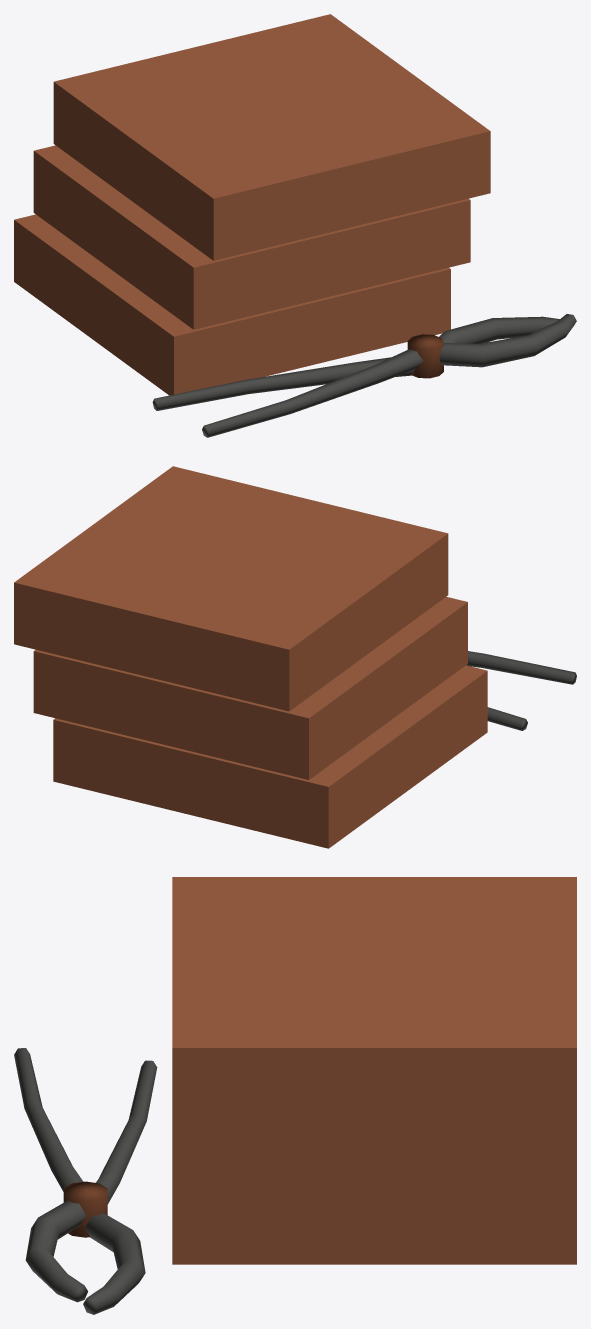
Rendered from lake-kleshchi-shallows-1.glb.
3 renders of one model, top to bottom at view 1: azimuth 30°, elevation 25°; view 2: azimuth 150°, elevation 25°; view 3: azimuth 270°, elevation 25°, orthographic. The views are drawn at different scales.
Visible parts, largest first — view 1: lake-kleshchi-shallows-1; view 2: lake-kleshchi-shallows-1; view 3: lake-kleshchi-shallows-1.
Boxes of the visible parts, bbox=[...] form: lake-kleshchi-shallows-1: bbox=[14, 14, 576, 437]; lake-kleshchi-shallows-1: bbox=[14, 466, 576, 848]; lake-kleshchi-shallows-1: bbox=[14, 877, 576, 1314].
Bounding box in the file's own units: 0.3965 × 0.1858 × 0.3896.
